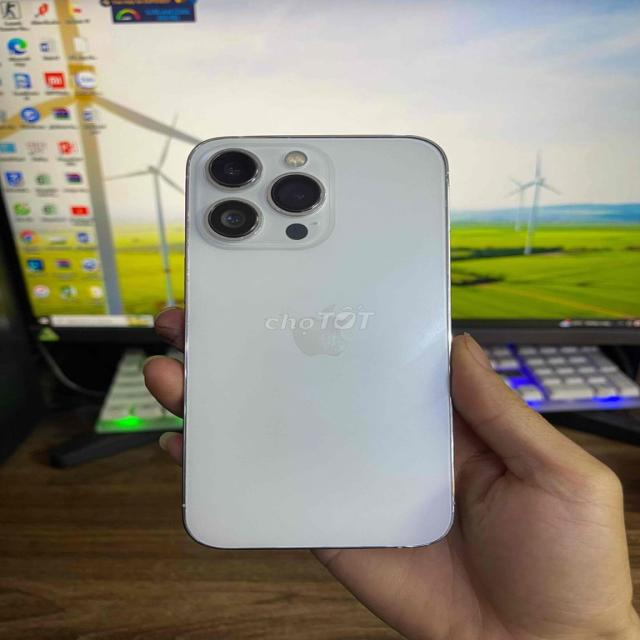gen_12_13: (170, 123, 475, 568)
scratch: (384, 476, 469, 558)
